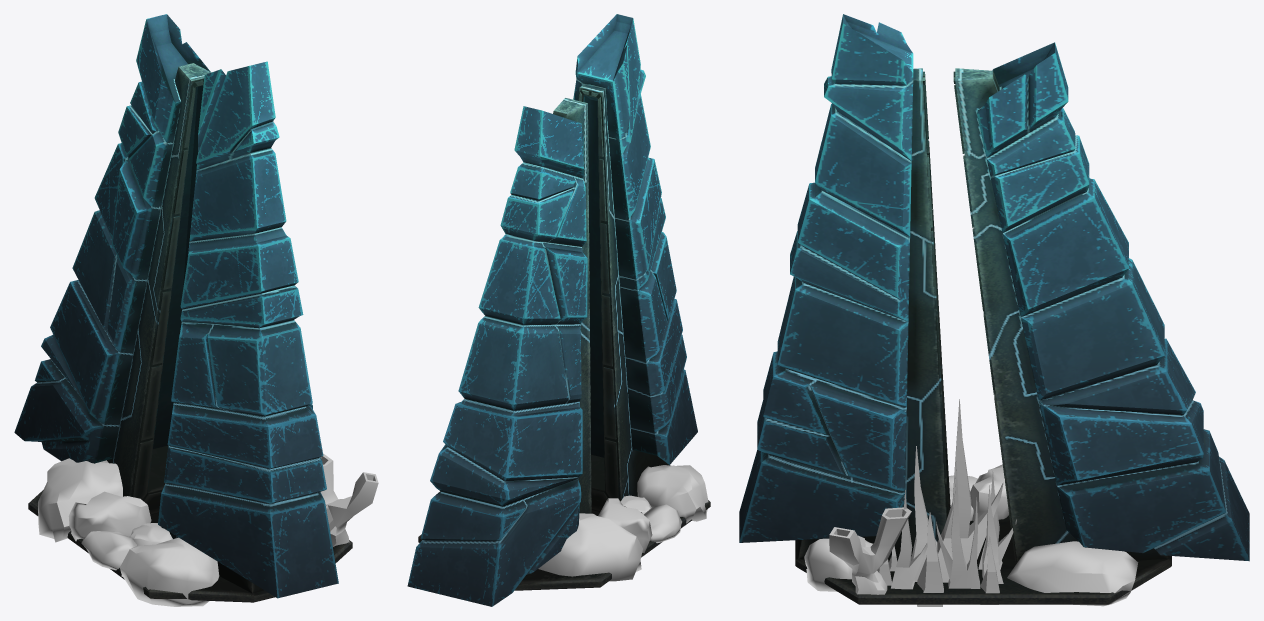
The model's file is MiniBossPylon.fbx.
3 renders of one model, left to right at view 1: azimuth 30°, elevation 25°; view 2: azimuth 150°, elevation 25°; view 3: azimuth 270°, elevation 25°, orthographic. The views are drawn at different scales.
Parts seen in each view (by area): view 1: Elite_Beacon, Rock28, Rock34, Rock30, Coral2, Rock29, Rock32; view 2: Elite_Beacon, Rock34, Rock28, Rock30, Rock29; view 3: Elite_Beacon, Rock33, Grass24, Coral2, Grass22, Rock31, Rock30, Grass23, Grass27, Grass25.
Boxes of the visible parts, x1,y1,x2,y2 form: Elite_Beacon: [14, 14, 352, 602]; Rock28: [120, 537, 219, 606]; Rock34: [38, 458, 122, 542]; Rock30: [68, 491, 151, 541]; Coral2: [320, 453, 378, 546]; Rock29: [81, 531, 136, 570]; Rock32: [129, 523, 172, 545]; Elite_Beacon: [407, 14, 710, 606]; Rock34: [538, 513, 642, 581]; Rock28: [637, 465, 708, 523]; Rock30: [598, 498, 652, 553]; Rock29: [644, 504, 681, 543]; Elite_Beacon: [739, 14, 1249, 604]; Rock33: [1007, 541, 1138, 606]; Grass24: [911, 399, 1003, 582]; Coral2: [829, 507, 911, 594]; Grass22: [936, 461, 980, 588]; Rock31: [804, 538, 872, 591]; Rock30: [970, 464, 1008, 521]; Grass23: [891, 490, 927, 589]; Grass27: [917, 512, 943, 606]; Grass25: [982, 485, 1003, 583].
Size of the model in its own units: 28.45 by 61.5 by 51.77.
